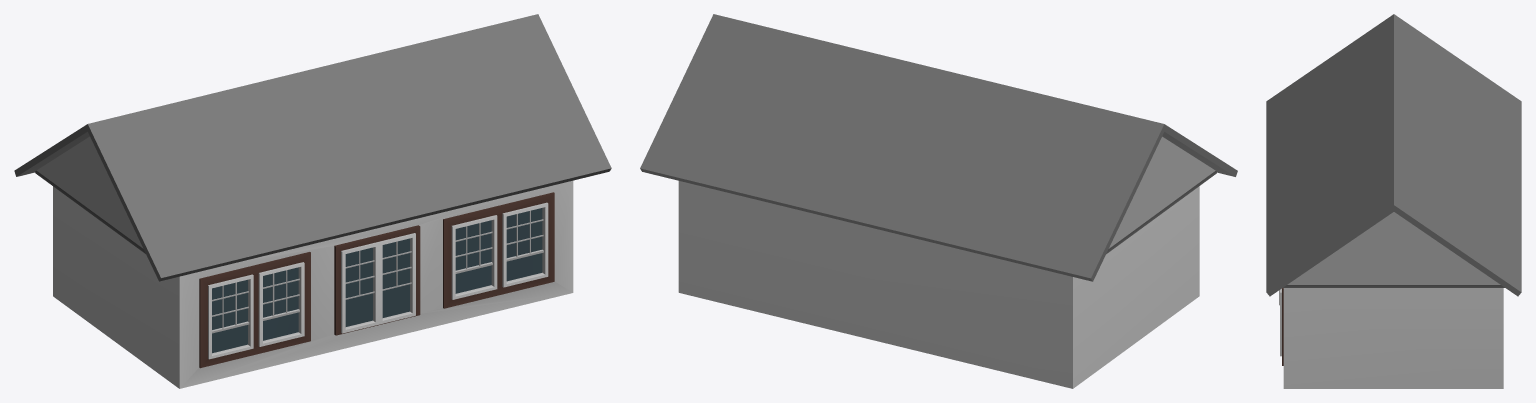
Rendered from house_027.glb.
3 views of the same model, side by side, from view 1: azimuth 30°, elevation 25°; view 2: azimuth 150°, elevation 25°; view 3: azimuth 270°, elevation 25° (orthographic). The views are drawn at different scales.
Parts seen in each view (by area): view 1: house_027; view 2: house_027; view 3: house_027.
Part boxes in pixels (box(x1,y1,x2,y2)): house_027: box(14, 14, 611, 388); house_027: box(640, 14, 1237, 388); house_027: box(1266, 14, 1521, 388).
Size of the model in its own units: 8.01 by 3.83 by 4.52.
Materials: 1 (1 with a texture image).
